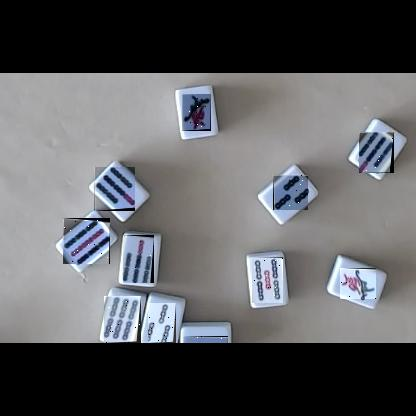1s: (340, 268, 376, 299), (182, 94, 211, 131)
2s: (183, 336, 228, 343)
3s: (273, 175, 308, 210), (148, 303, 176, 343)
5s: (251, 257, 283, 303)
6s: (104, 296, 141, 343)
7s: (94, 167, 135, 211), (123, 235, 154, 283), (359, 132, 394, 173)
9s: (63, 218, 110, 264)
